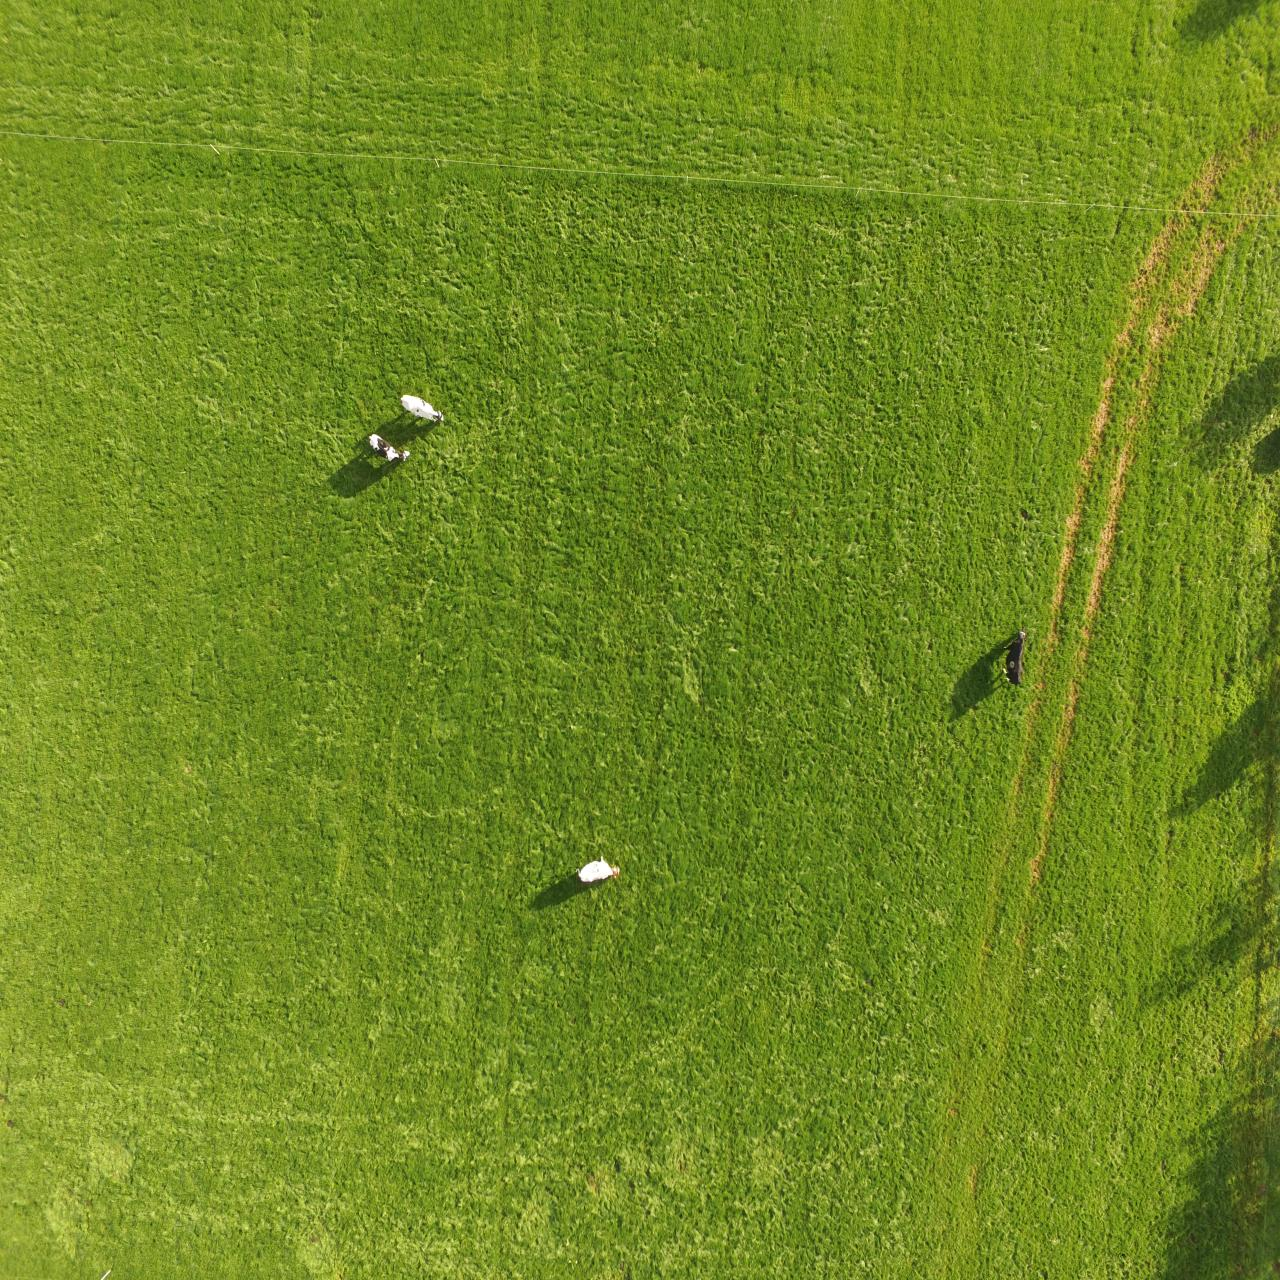cow: (1000, 625, 1028, 687), (399, 392, 446, 428), (367, 430, 410, 466), (575, 853, 621, 884)
